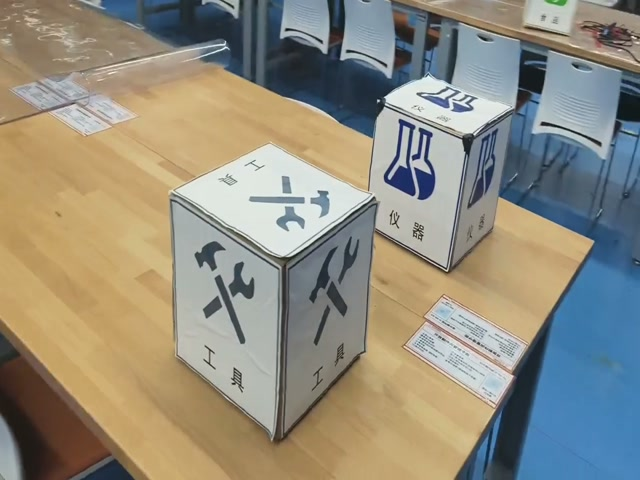Cube_ins: (380, 75, 512, 143)
Cube_tool: (170, 144, 377, 272)
